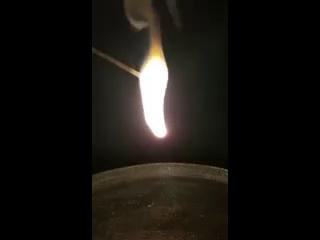Fire: (140, 36, 169, 136)
